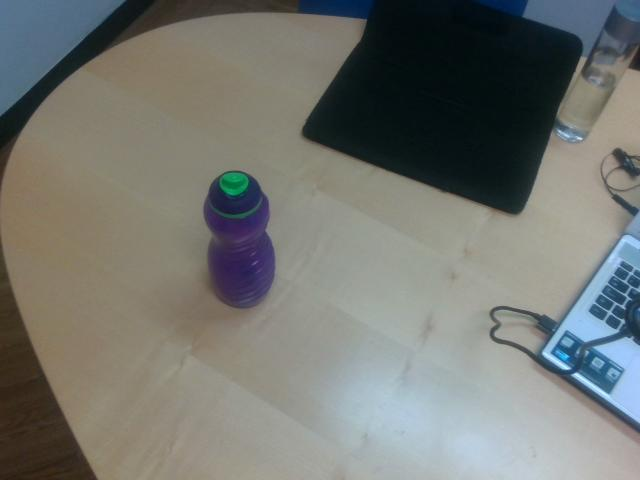bottle: (203, 172, 276, 306)
